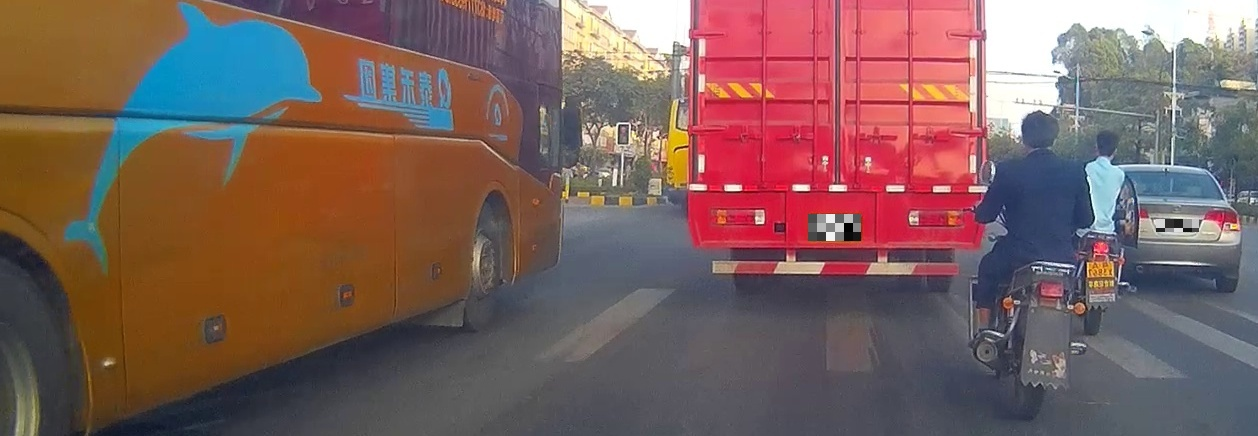L_light: (1110, 203, 1149, 230)
R_light: (1204, 207, 1240, 232)
T_light: (1160, 172, 1174, 178)
day-right: (1106, 164, 1242, 291)
plate_1: (808, 214, 861, 241)
plate_2: (1156, 219, 1199, 232)
